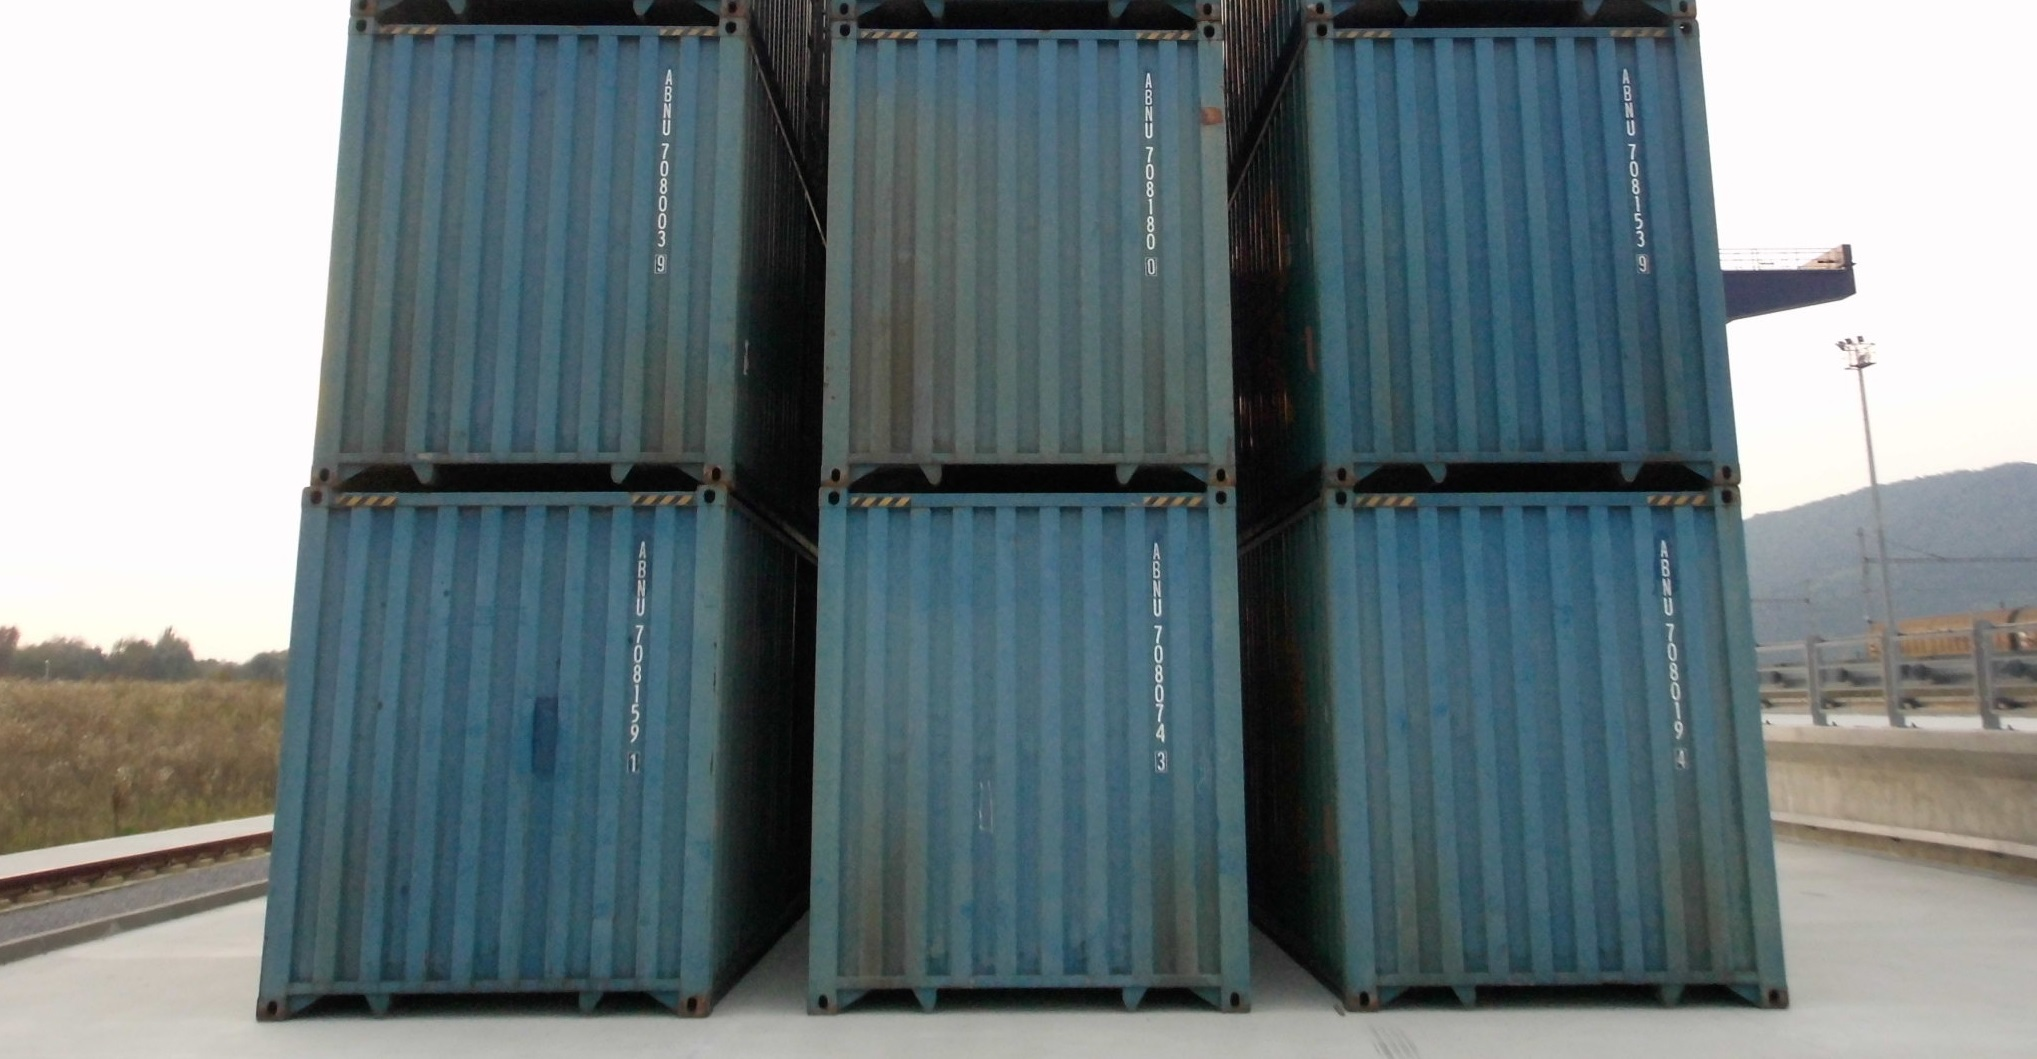container_no_door: (251, 489, 722, 1012), (1322, 490, 1792, 1015), (811, 484, 1256, 1008), (303, 20, 744, 482), (1308, 16, 1739, 482), (822, 22, 1235, 476)
